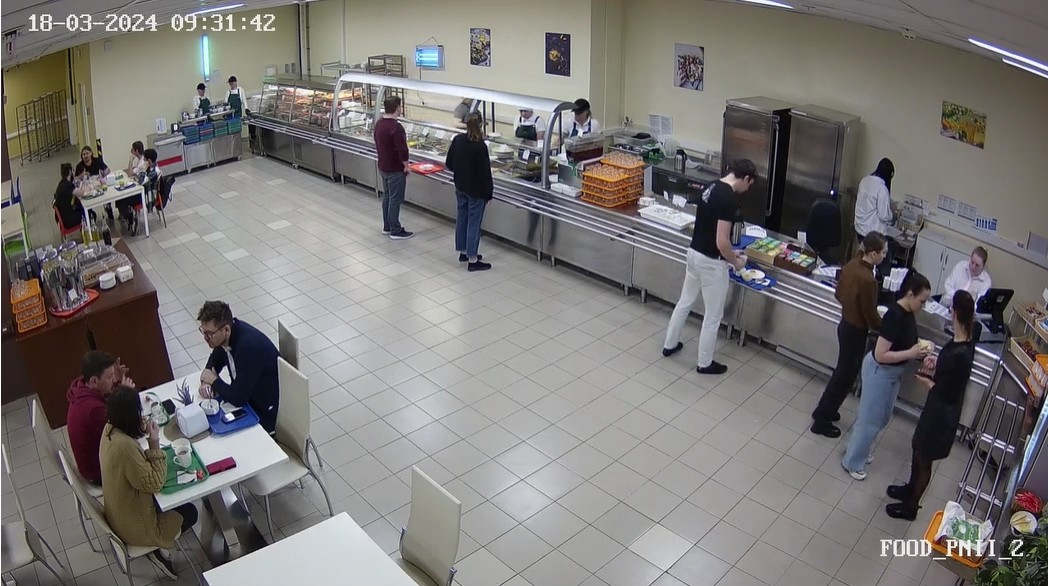Na_Kasse: (823, 284, 1002, 524), (760, 265, 953, 478), (735, 220, 913, 443)
Personal: (929, 231, 1013, 293), (843, 146, 901, 234), (560, 91, 603, 150), (217, 67, 256, 125), (513, 92, 549, 146), (180, 75, 215, 126)
Vybiraet: (660, 158, 763, 380), (356, 96, 427, 249), (439, 106, 499, 280)
Za_Stolom: (195, 291, 295, 439), (98, 383, 171, 555), (55, 345, 117, 492), (50, 161, 83, 234), (69, 139, 118, 183), (136, 148, 169, 202), (126, 131, 145, 179), (153, 193, 157, 198)
